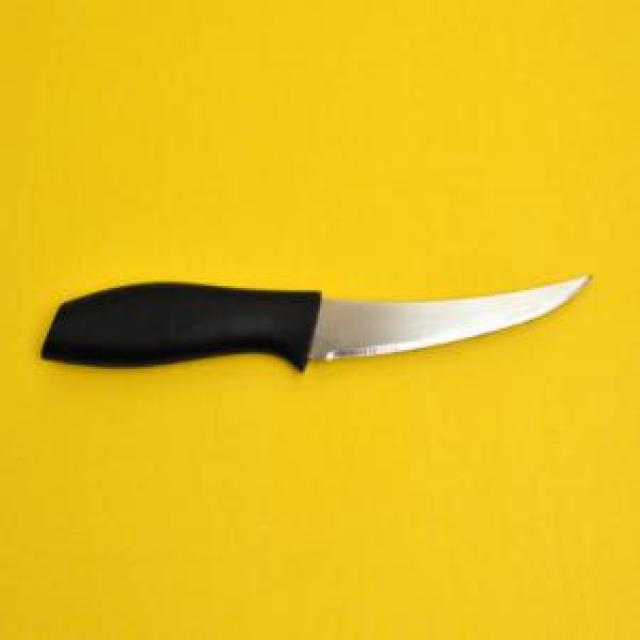knife: (36, 271, 593, 372)
